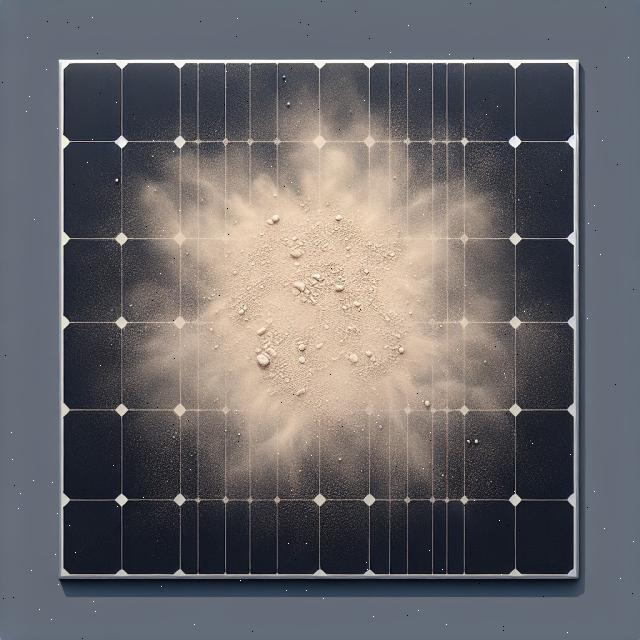Anomaly Solar Panel: (61, 62, 577, 575)
Surface Contaminant: (41, 44, 580, 556)
